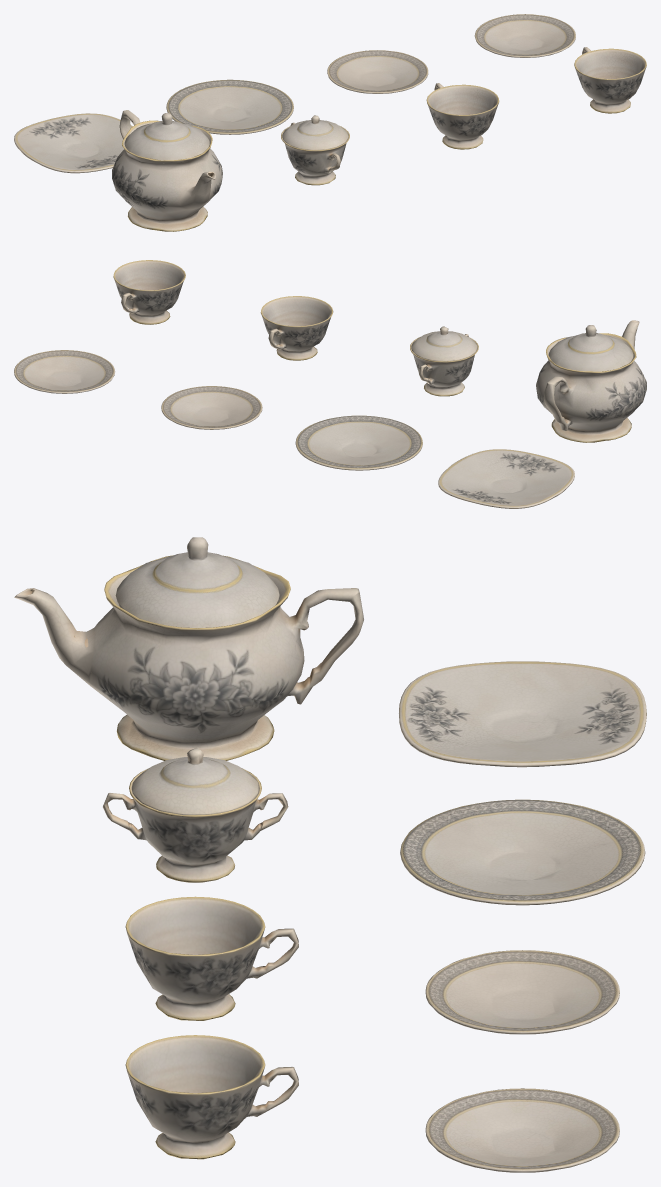
The model's file is tea_set_01_lod2.glb.
3 views of the same model, one above another, from view 1: azimuth 30°, elevation 25°; view 2: azimuth 150°, elevation 25°; view 3: azimuth 270°, elevation 25° (orthographic). The views are drawn at different scales.
Visible parts, largest first — view 1: tea_set_01_teapot_01, tea_set_01_plate_large_circular_03, tea_set_01_plate_large_square_01, tea_set_01_cup_small_01, tea_set_01_cup_small_02, tea_set_01_saucer_circular_04, tea_set_01_saucer_circular_03, tea_set_01_teapot_01_lid, tea_set_01_sugar_cup_01, tea_set_01_sugar_cup_01_lid; view 2: tea_set_01_teapot_01, tea_set_01_plate_large_square_01, tea_set_01_plate_large_circular_03, tea_set_01_saucer_circular_04, tea_set_01_cup_small_02, tea_set_01_cup_small_01, tea_set_01_saucer_circular_03, tea_set_01_teapot_01_lid, tea_set_01_sugar_cup_01, tea_set_01_sugar_cup_01_lid; view 3: tea_set_01_teapot_01, tea_set_01_plate_large_square_01, tea_set_01_plate_large_circular_03, tea_set_01_cup_small_02, tea_set_01_cup_small_01, tea_set_01_saucer_circular_03, tea_set_01_saucer_circular_04, tea_set_01_teapot_01_lid, tea_set_01_sugar_cup_01, tea_set_01_sugar_cup_01_lid.
Part boxes in pixels (x1,y1,x2,y2): tea_set_01_teapot_01: (112,110,222,231); tea_set_01_plate_large_circular_03: (166,79,293,134); tea_set_01_plate_large_square_01: (14,113,132,173); tea_set_01_cup_small_01: (426,83,499,149); tea_set_01_cup_small_02: (574,47,646,113); tea_set_01_saucer_circular_04: (327,50,428,93); tea_set_01_saucer_circular_03: (474,14,575,57); tea_set_01_teapot_01_lid: (124,112,209,160); tea_set_01_sugar_cup_01: (281,122,349,185); tea_set_01_sugar_cup_01_lid: (282,115,348,150); tea_set_01_teapot_01: (536,320,646,442); tea_set_01_plate_large_square_01: (438,449,574,508); tea_set_01_plate_large_circular_03: (295,415,422,470); tea_set_01_saucer_circular_04: (161,386,262,429); tea_set_01_cup_small_02: (113,260,185,324); tea_set_01_cup_small_01: (260,296,333,360); tea_set_01_saucer_circular_03: (14,350,115,393); tea_set_01_teapot_01_lid: (548,325,633,371); tea_set_01_sugar_cup_01: (410,334,478,396); tea_set_01_sugar_cup_01_lid: (411,326,477,361); tea_set_01_teapot_01: (14,555,363,760); tea_set_01_plate_large_square_01: (399,661,646,767); tea_set_01_plate_large_circular_03: (400,799,645,905); tea_set_01_cup_small_02: (125,1035,298,1159); tea_set_01_cup_small_01: (125,896,298,1020); tea_set_01_saucer_circular_03: (425,1088,619,1172); tea_set_01_saucer_circular_04: (425,950,619,1034); tea_set_01_teapot_01_lid: (115,537,279,627); tea_set_01_sugar_cup_01: (103,768,288,882); tea_set_01_sugar_cup_01_lid: (131,747,259,814).
Bounding box in the file's own units: 0.9182 × 0.165 × 0.4836.
1 material, 1 textured.
